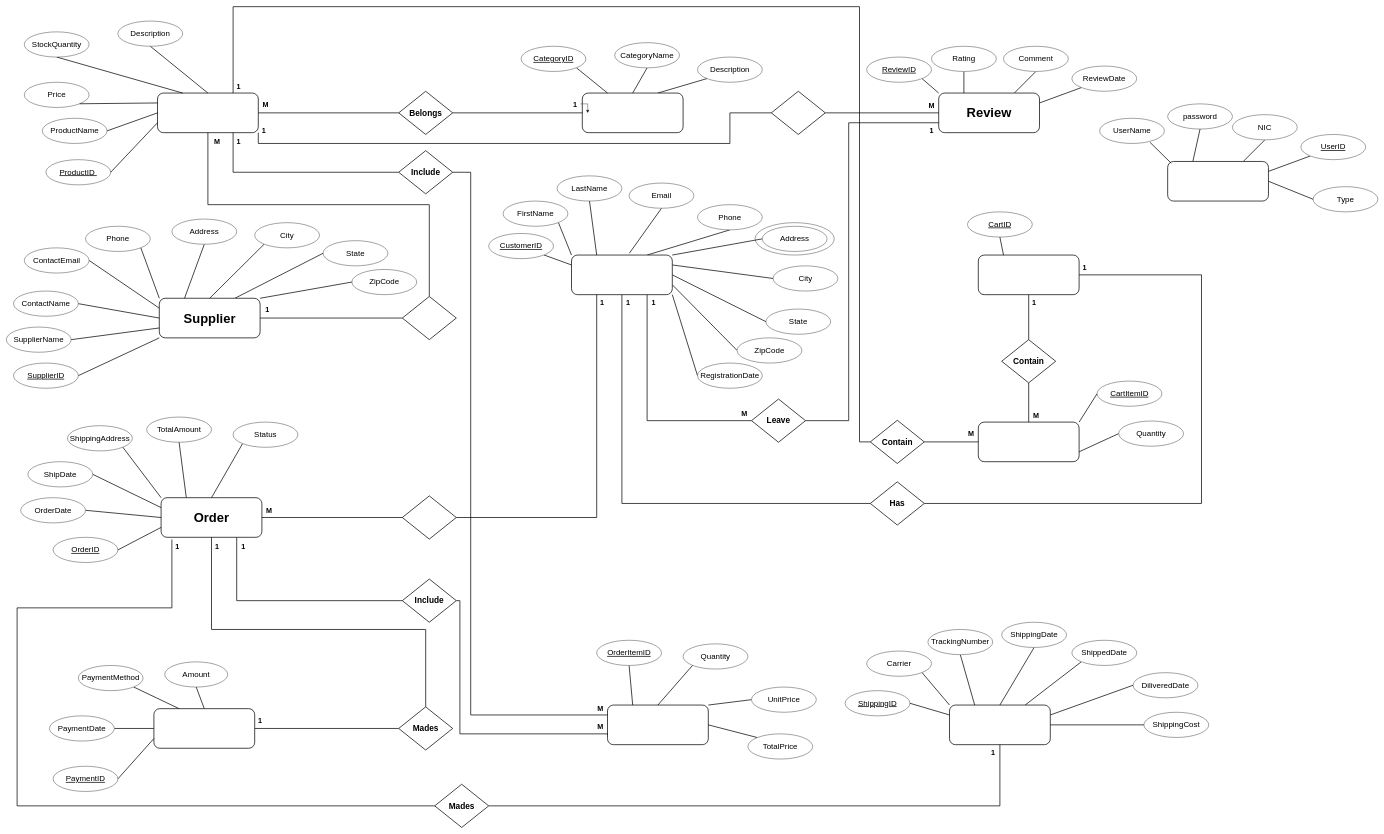
Some shapes in this 1384 by 834 pixel diagram are drawn without their labels. The shapes that lost their labels are listed below. From the top down, each one's box as (x1, y1, x2, y2) in pixels, then its label:
(157, 93, 258, 133): Product
(582, 93, 683, 133): Category
(771, 91, 825, 135): Have
(1167, 161, 1269, 201): User
(571, 255, 672, 295): Customer
(978, 255, 1079, 295): Cart
(402, 296, 456, 340): Supplies
(978, 422, 1079, 462): CartItem
(402, 495, 456, 539): Places
(153, 708, 255, 748): Payment
(607, 705, 708, 745): OrderItem
(949, 705, 1050, 745): Shipping
